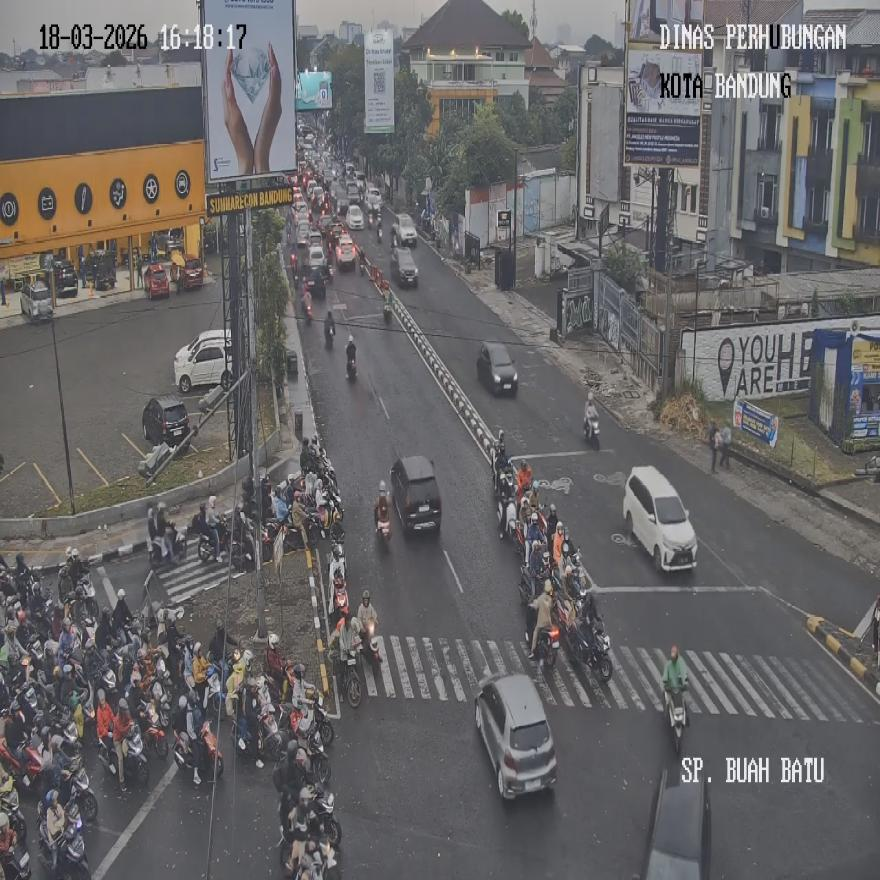Bis: (222, 42, 282, 174)
Motor: (475, 671, 558, 799), (622, 464, 698, 571), (641, 768, 712, 878), (391, 455, 442, 534), (173, 328, 233, 394), (478, 338, 518, 394)
Truk: (36, 803, 89, 880), (566, 611, 612, 683), (97, 726, 148, 788), (173, 720, 223, 783), (289, 688, 335, 752), (59, 760, 98, 825), (526, 596, 560, 668), (0, 734, 43, 790), (0, 805, 32, 879), (664, 677, 688, 754), (147, 521, 186, 567), (66, 574, 98, 628), (316, 480, 343, 542), (141, 702, 168, 760), (229, 509, 255, 568), (356, 616, 382, 673), (204, 662, 226, 720), (196, 518, 224, 562), (342, 646, 362, 706), (331, 573, 349, 628), (497, 493, 517, 540), (374, 496, 390, 548), (584, 404, 599, 449), (301, 284, 314, 322), (324, 312, 335, 347), (346, 352, 357, 379)
